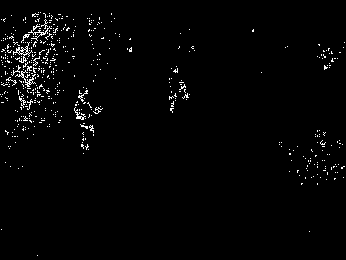person: (74, 86, 107, 152), (166, 65, 194, 114)
